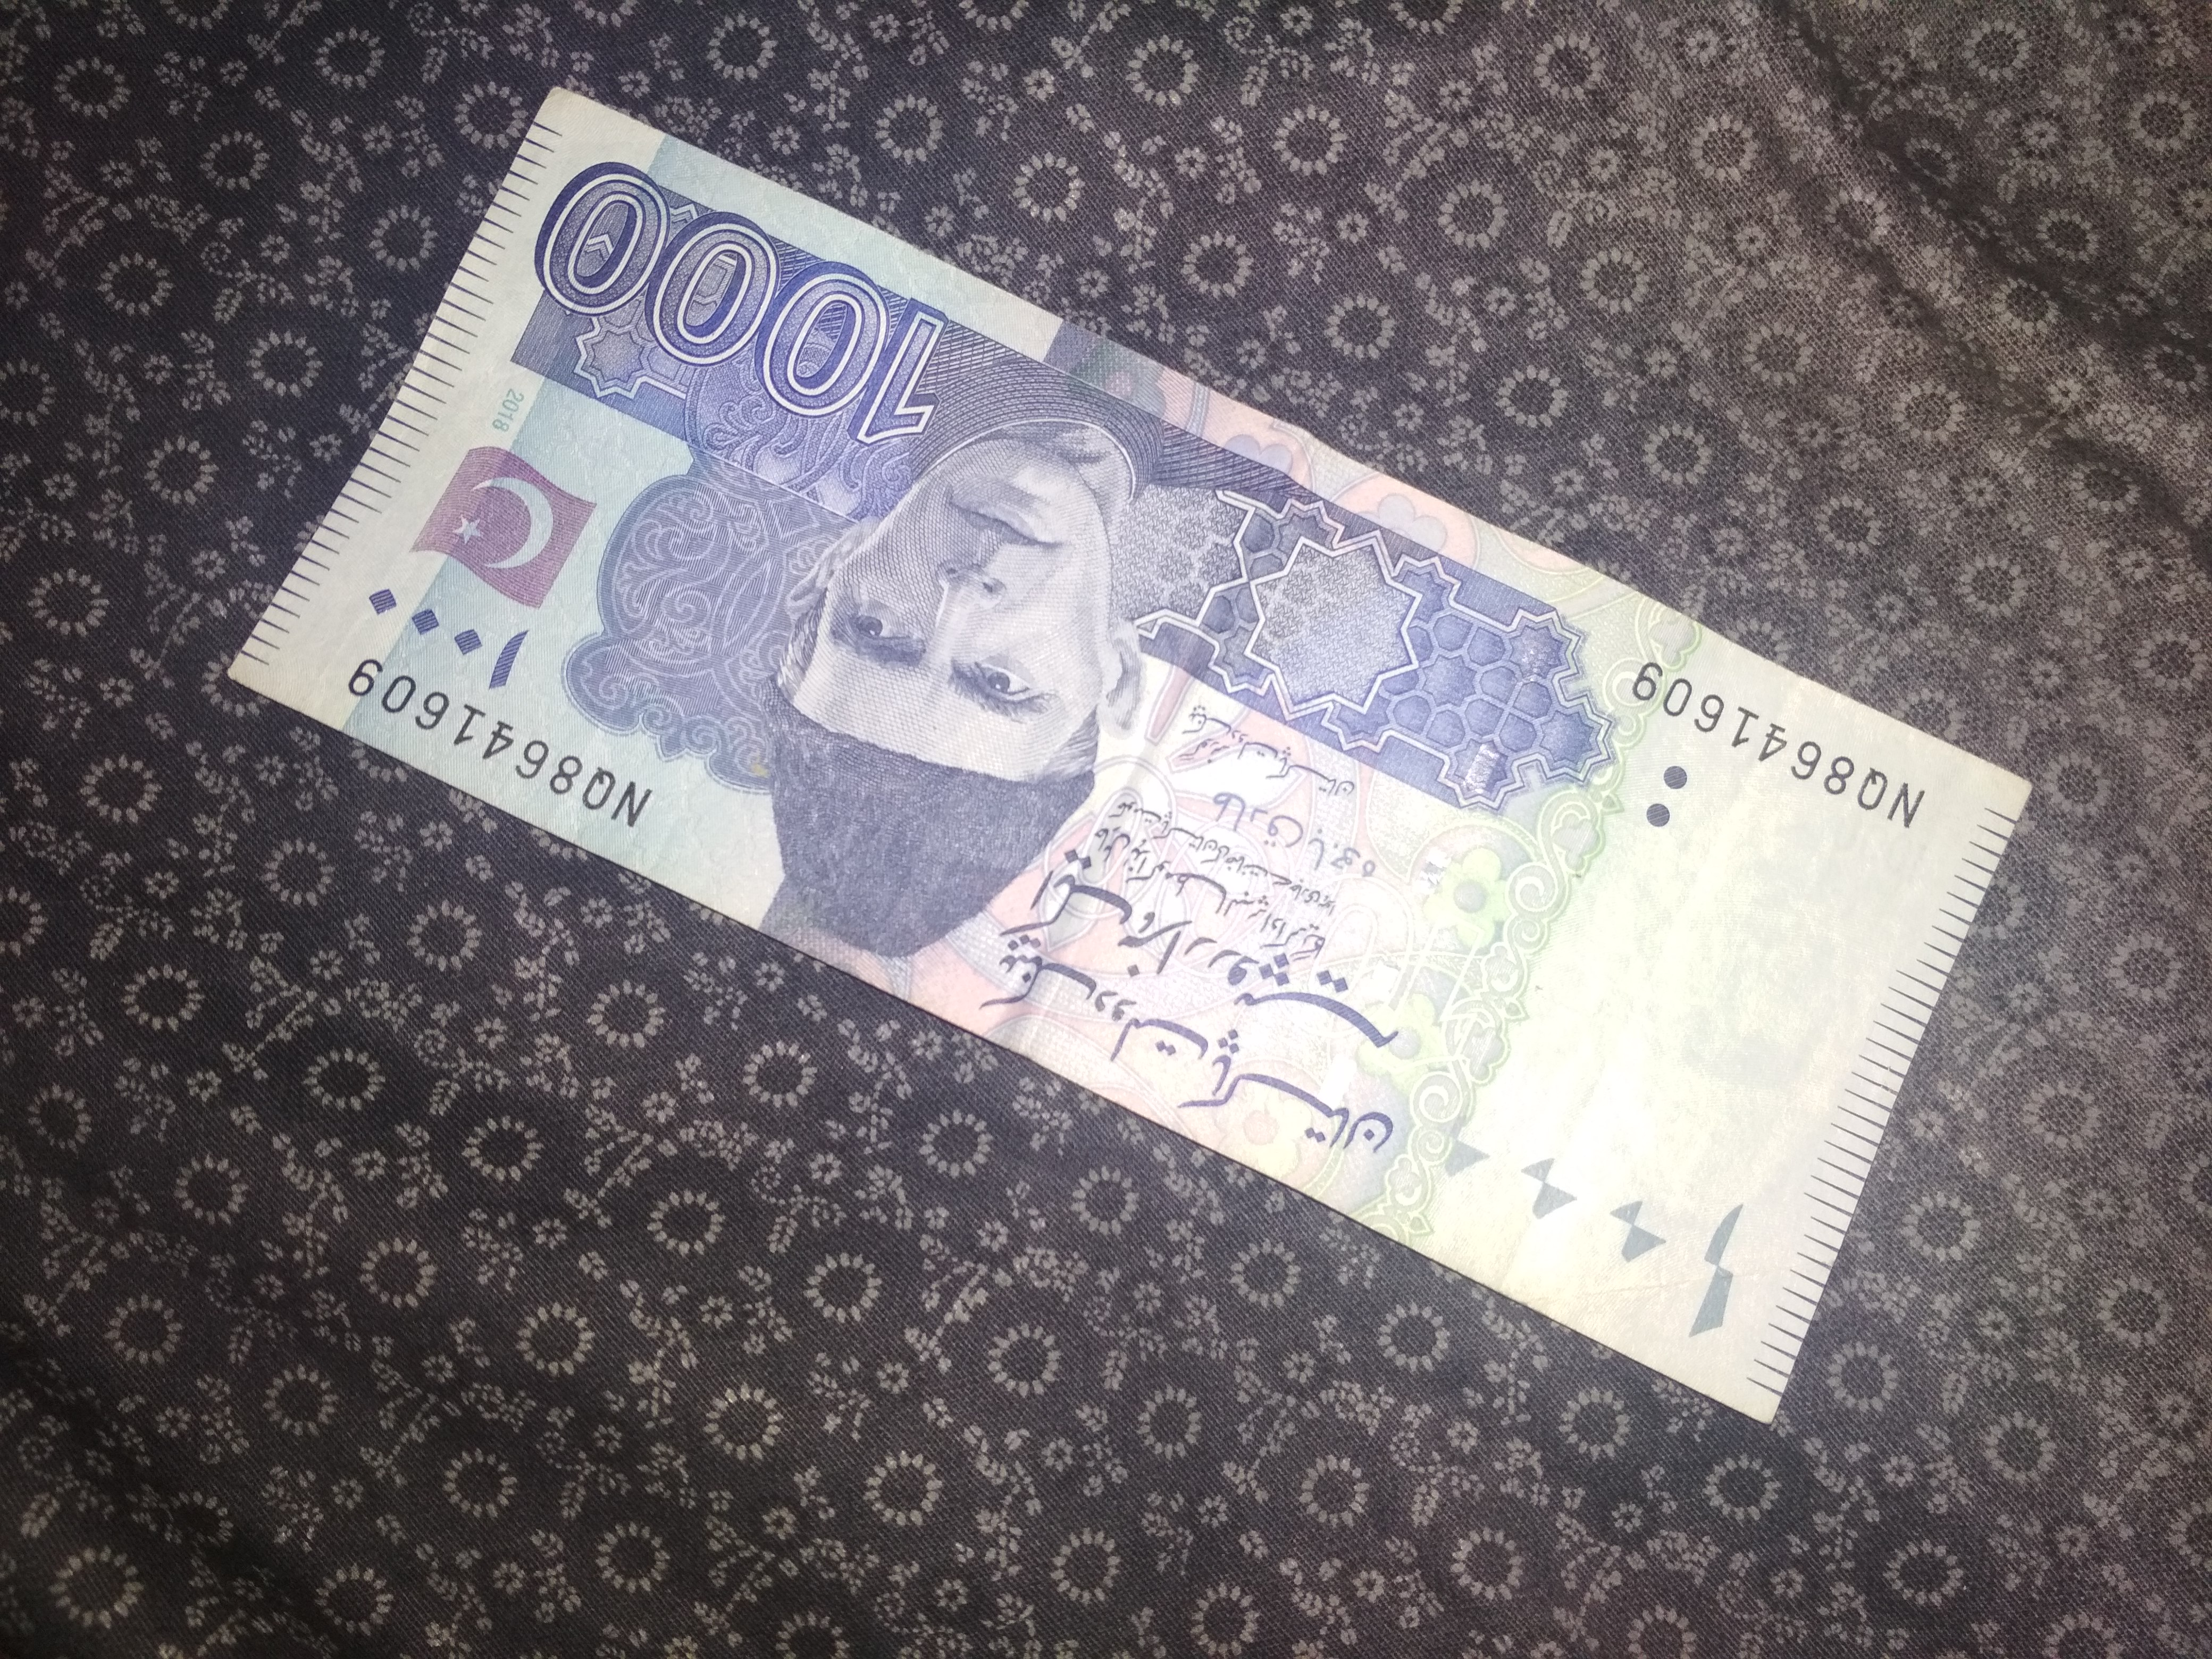1000 rupee: (181, 56, 1993, 1436)
